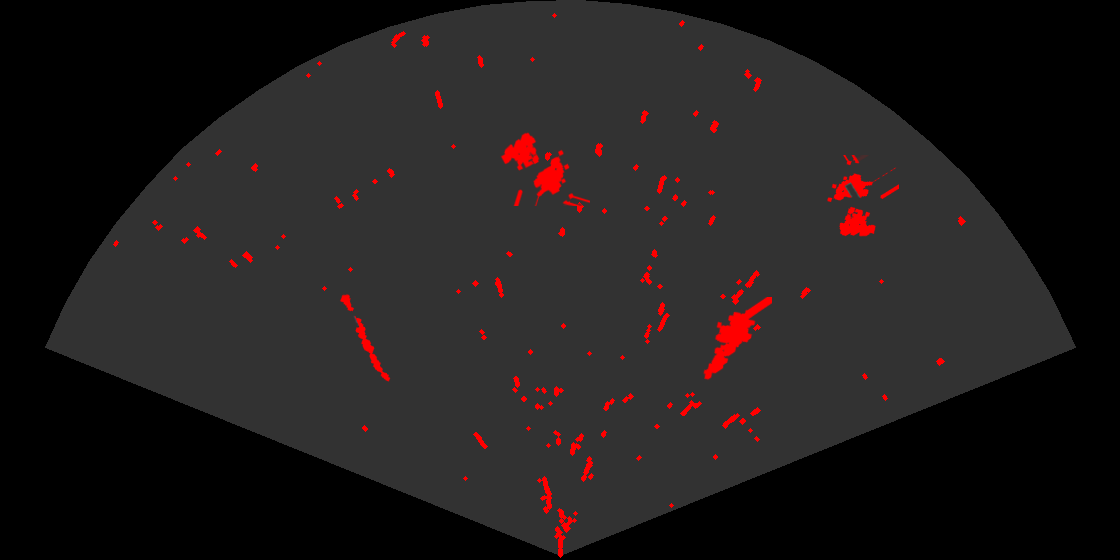cage: (499, 131, 590, 206), (826, 155, 899, 238)
chain: (338, 292, 392, 383)
frogman: (702, 297, 772, 382)
